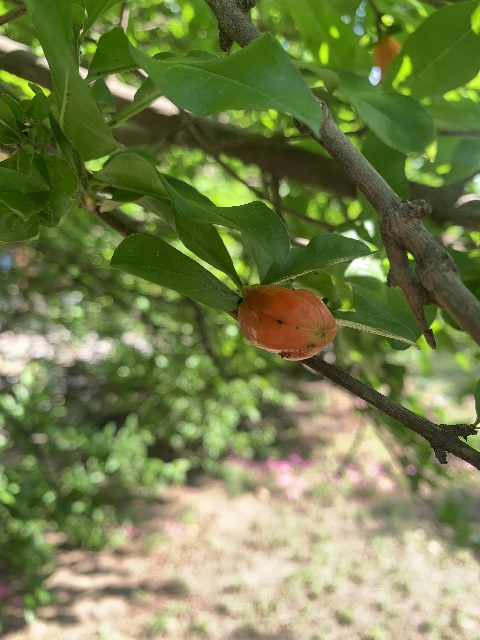bud: (236, 284, 337, 358)
